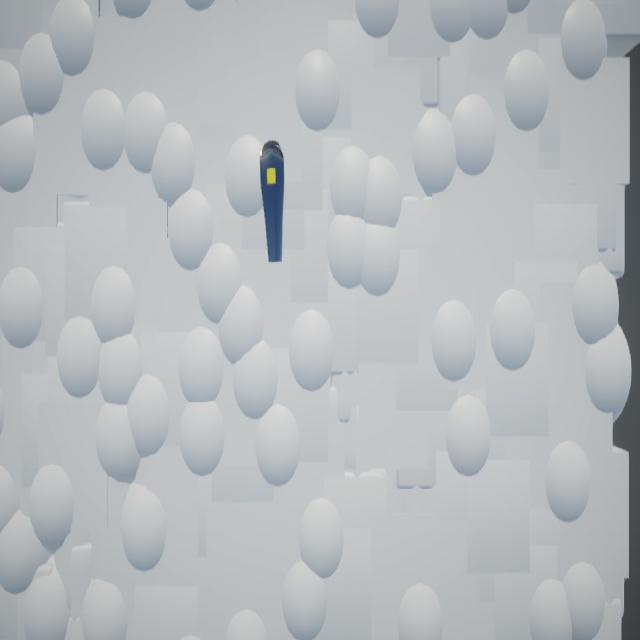handle_knife: (261, 141, 285, 264)
